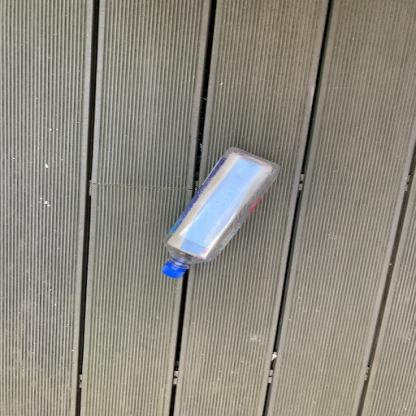trash: (158, 146, 277, 279)
